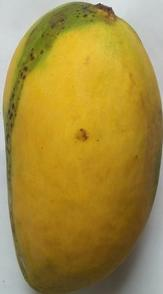Ripe: (1, 0, 163, 294)
